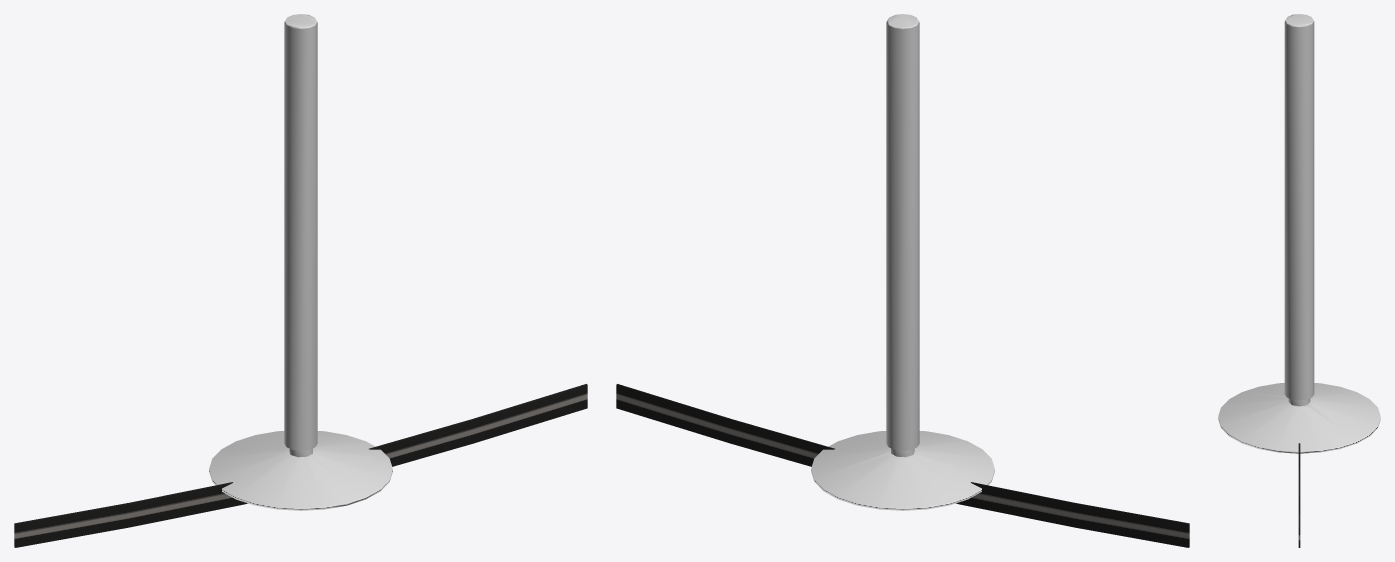
Rendered from linepost.fbx.
3 views of the same model, side by side, from view 1: azimuth 30°, elevation 25°; view 2: azimuth 150°, elevation 25°; view 3: azimuth 270°, elevation 25° (orthographic). The views are drawn at different scales.
Parts seen in each view (by area): view 1: linepost, linepost_band; view 2: linepost, linepost_band; view 3: linepost, linepost_band.
Boxes of the visible parts, left/top/right/bottom form: linepost: left=209, top=14, right=392, bottom=510; linepost_band: left=14, top=384, right=587, bottom=547; linepost: left=811, top=14, right=994, bottom=510; linepost_band: left=616, top=384, right=1189, bottom=547; linepost: left=1218, top=14, right=1380, bottom=453; linepost_band: left=1298, top=443, right=1300, bottom=547.
Size of the model in its own units: 130 by 102 by 36.22.
